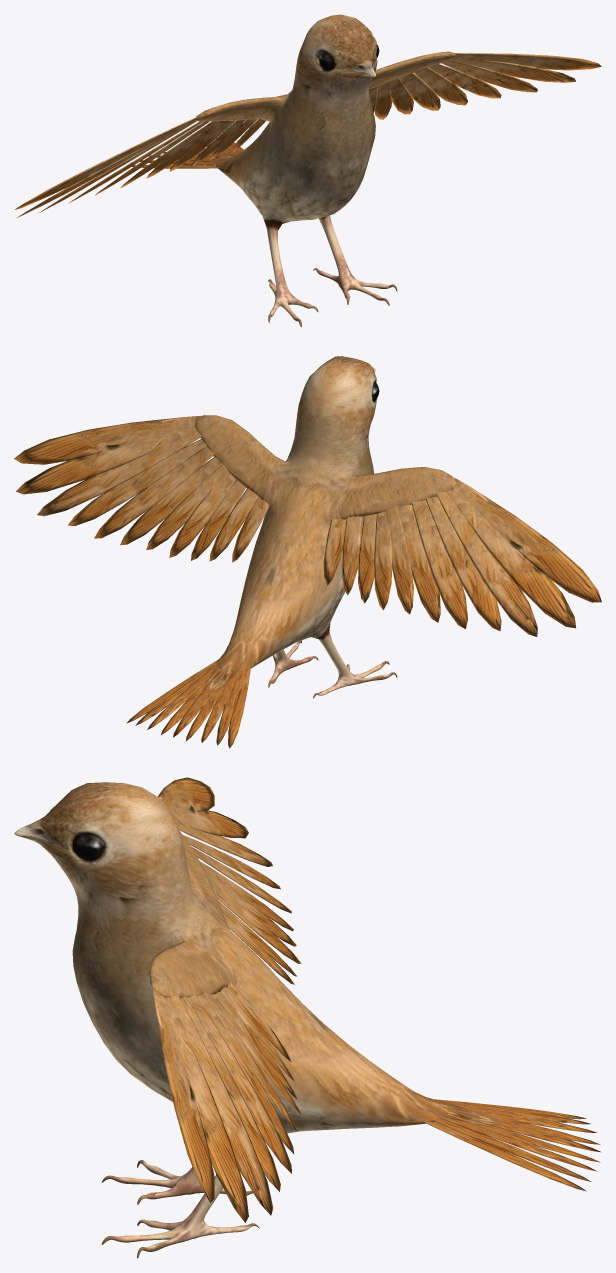
File: nightngale.fbx
The picture shows the model from 3 angles, top to bottom: view 1: azimuth 30°, elevation 25°; view 2: azimuth 150°, elevation 25°; view 3: azimuth 270°, elevation 25°; orthographic projection. The views are drawn at different scales.
Parts seen in each view (by area): view 1: Low__Nightngale:NightingaleBody, Low__Nightngale:Nightingalefeather; view 2: Low__Nightngale:Nightingalefeather, Low__Nightngale:NightingaleBody; view 3: Low__Nightngale:NightingaleBody, Low__Nightngale:Nightingalefeather, Low__Nightngale:EyeNightingale.
Part boxes in pixels (x1,y1,x2,y2): Low__Nightngale:NightingaleBody: (196, 14, 456, 327); Low__Nightngale:Nightingalefeather: (15, 53, 601, 217); Low__Nightngale:Nightingalefeather: (14, 415, 601, 748); Low__Nightngale:NightingaleBody: (194, 356, 456, 698); Low__Nightngale:NightingaleBody: (14, 782, 447, 1258); Low__Nightngale:Nightingalefeather: (152, 777, 601, 1222); Low__Nightngale:EyeNightingale: (72, 833, 103, 860).
Size of the model in its own units: 7.02 by 3.36 by 4.2.
Materials: 1 (1 with a texture image).
